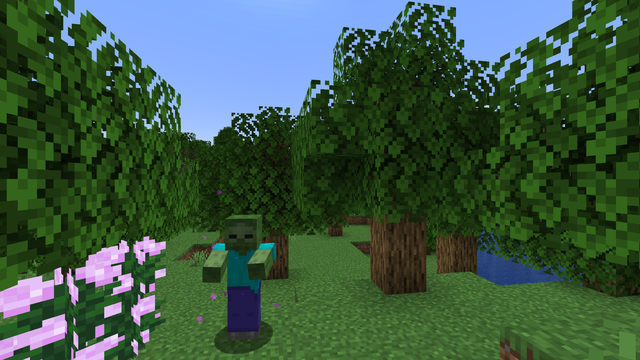zombies: (222, 216, 263, 347)
